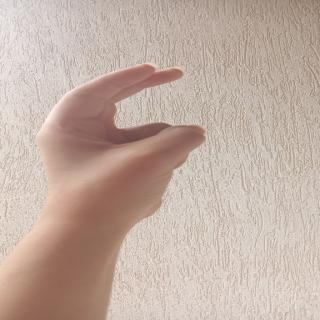ZAY: (17, 56, 220, 228)
